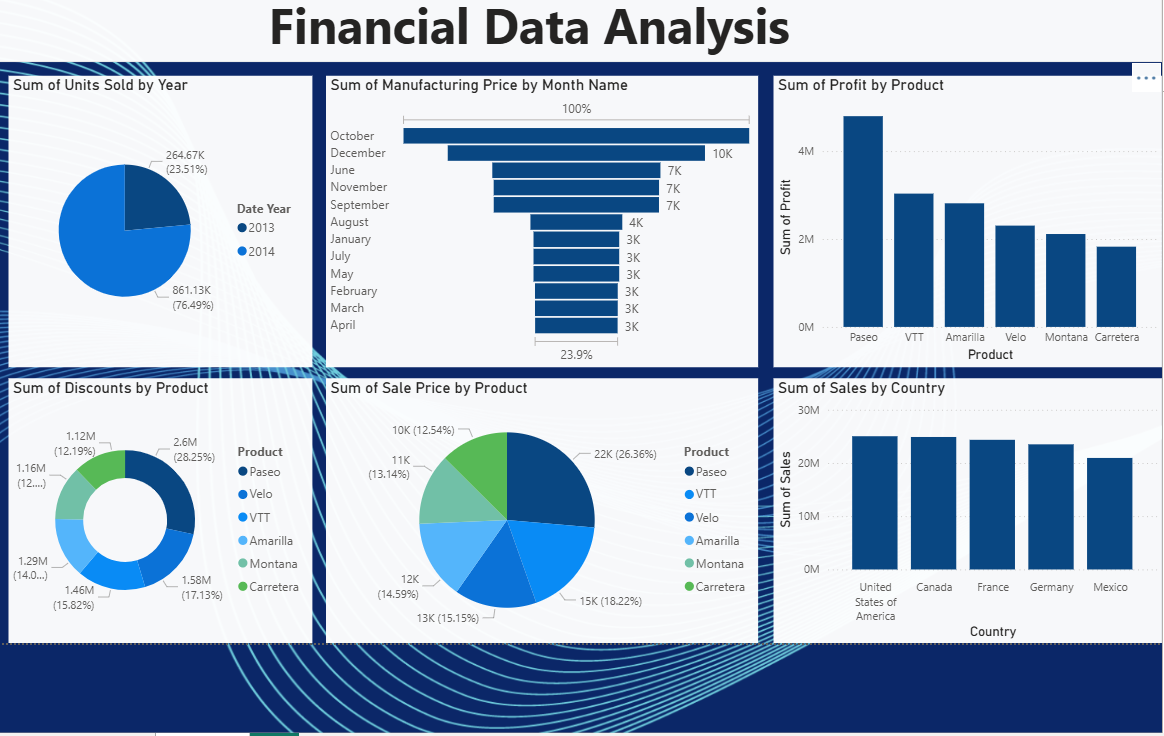

This screenshot's page, from the dashboard's own definition file:
{"tool":"powerbi","page":{"name":"Page 1","canvas":[1280,720],"ordinal":0},"visuals":[{"type":"clusteredColumnChart","fields":{"Y":["Sum(Sheet1. Sales)"],"Category":["Sheet1.Country"]},"box":[853.5,429.5,426.8,290.9],"z":0},{"type":"pieChart","fields":{"Category":["Sheet1.Product"],"Y":["Sum(Sheet1.Sale Price)"]},"box":[362.3,429.5,474.8,290.9],"z":1},{"type":"donutChart","fields":{"Y":["Sum(Sheet1.Discounts)"],"Category":["Sheet1.Product"]},"box":[13.7,429.5,333.4,290.9],"z":2},{"type":"pieChart","fields":{"Category":["Sheet1.Date.Variation.Date Hierarchy.Year","Sheet1.Date.Variation.Date Hierarchy.Quarter","Sheet1.Date.Variation.Date Hierarchy.Month","Sheet1.Date.Variation.Date Hierarchy.Day"],"Y":["Sum(Sheet1.Units Sold)"]},"box":[13.7,97.4,333.4,319.7],"z":3},{"type":"funnel","fields":{"Category":["Sheet1.Month Name"],"Y":["Sum(Sheet1.Manufacturing Price)"]},"box":[362.3,97.4,474.8,319.7],"z":4},{"type":"clusteredColumnChart","fields":{"Y":["Sum(Sheet1.Profit)"],"Category":["Sheet1.Product"]},"box":[853.5,97.4,426.8,319.7],"z":5},{"type":"textbox","box":[0,0,1280.3,82.3],"z":6}]}

Visuals, with their boxes in screenshot pixels (x1, y1, x2, y2):
clusteredColumnChart - Sum(Sheet1. Sales) x Sheet1.Country: pyautogui.locateOnScreen(765, 376, 1148, 637)
pieChart - Sheet1.Product x Sum(Sheet1.Sale Price): pyautogui.locateOnScreen(325, 376, 751, 637)
donutChart - Sum(Sheet1.Discounts) x Sheet1.Product: pyautogui.locateOnScreen(12, 376, 311, 637)
pieChart - Sheet1.Date.Variation.Date Hierarchy.Year x Sheet1.Date.Variation.Date Hierarchy.Quarter: pyautogui.locateOnScreen(12, 78, 311, 365)
funnel - Sheet1.Month Name x Sum(Sheet1.Manufacturing Price): pyautogui.locateOnScreen(325, 78, 751, 365)
clusteredColumnChart - Sum(Sheet1.Profit) x Sheet1.Product: pyautogui.locateOnScreen(765, 78, 1148, 365)
textbox: pyautogui.locateOnScreen(0, 0, 1148, 65)
